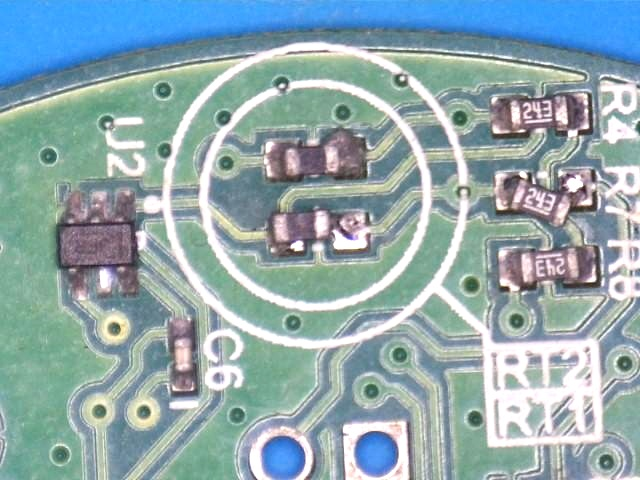pcb_defect: (493, 167, 595, 228), (266, 208, 370, 256)
